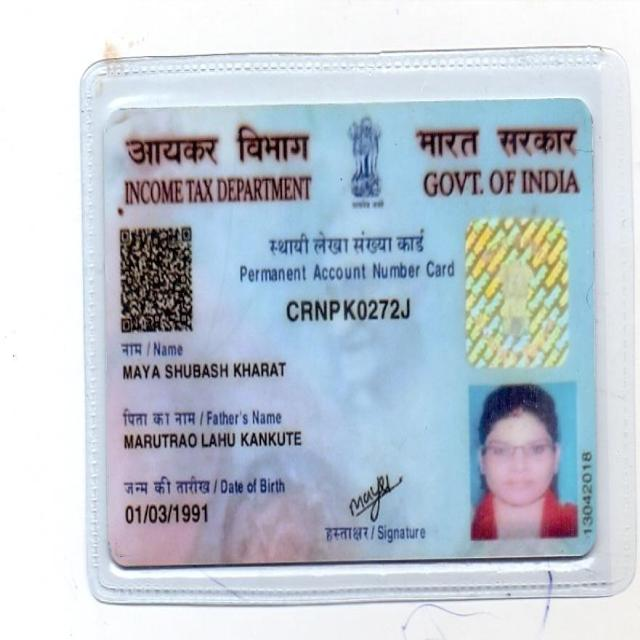pan_card: (108, 102, 595, 566)
